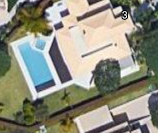pool: (19, 44, 55, 86)
